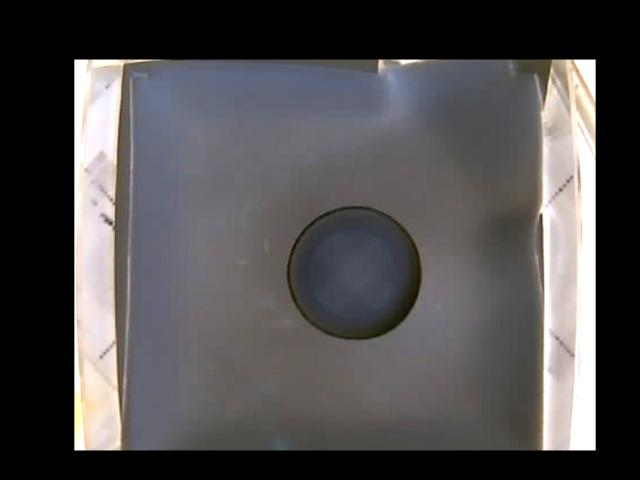Cup: (288, 204, 421, 339)
